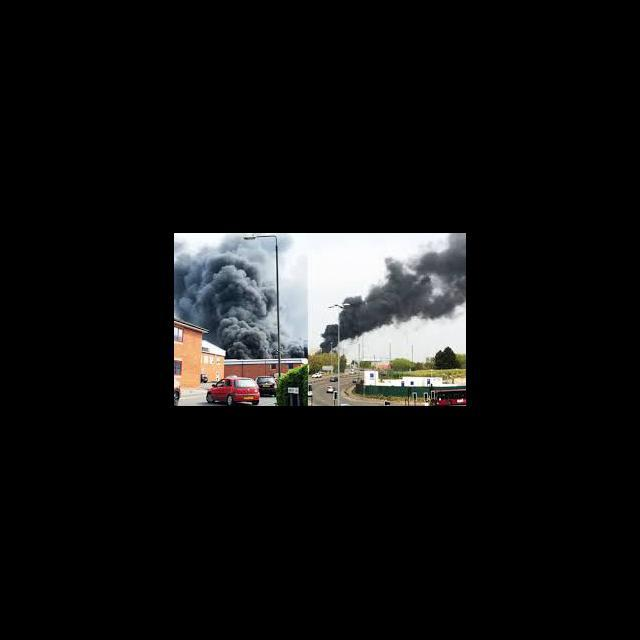Smoke: (324, 234, 466, 354), (176, 234, 304, 358)
